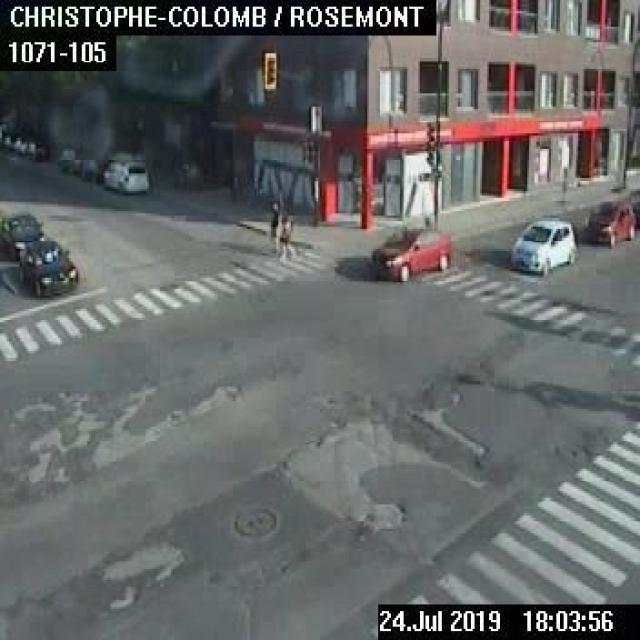pedestrian: (276, 214, 294, 260), (267, 200, 279, 246)
vehicle: (370, 226, 450, 280), (511, 218, 574, 275), (17, 238, 77, 294), (582, 199, 634, 245), (0, 212, 44, 257), (102, 160, 147, 192), (75, 157, 102, 182), (57, 147, 79, 173), (627, 187, 638, 229), (28, 141, 46, 157), (12, 136, 28, 153), (3, 134, 13, 146)
